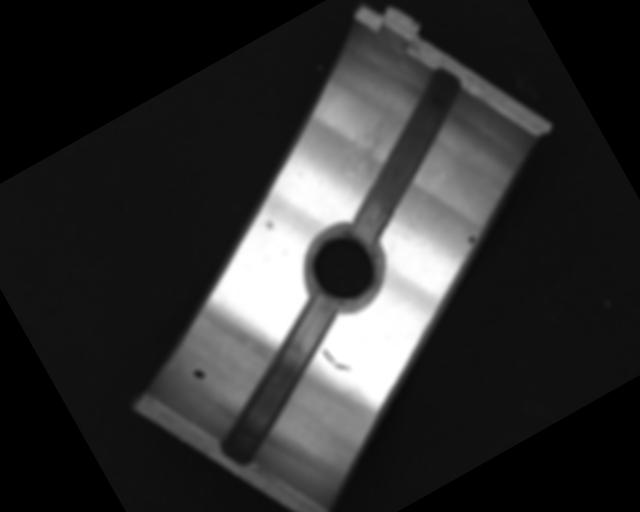blot: (190, 365, 207, 384), (465, 233, 478, 246)
bruise: (263, 218, 277, 234)
gap: (304, 64, 506, 249), (184, 290, 376, 464)
hole: (292, 215, 399, 323)
nick: (320, 342, 350, 378)
scratch: (327, 97, 425, 192)
